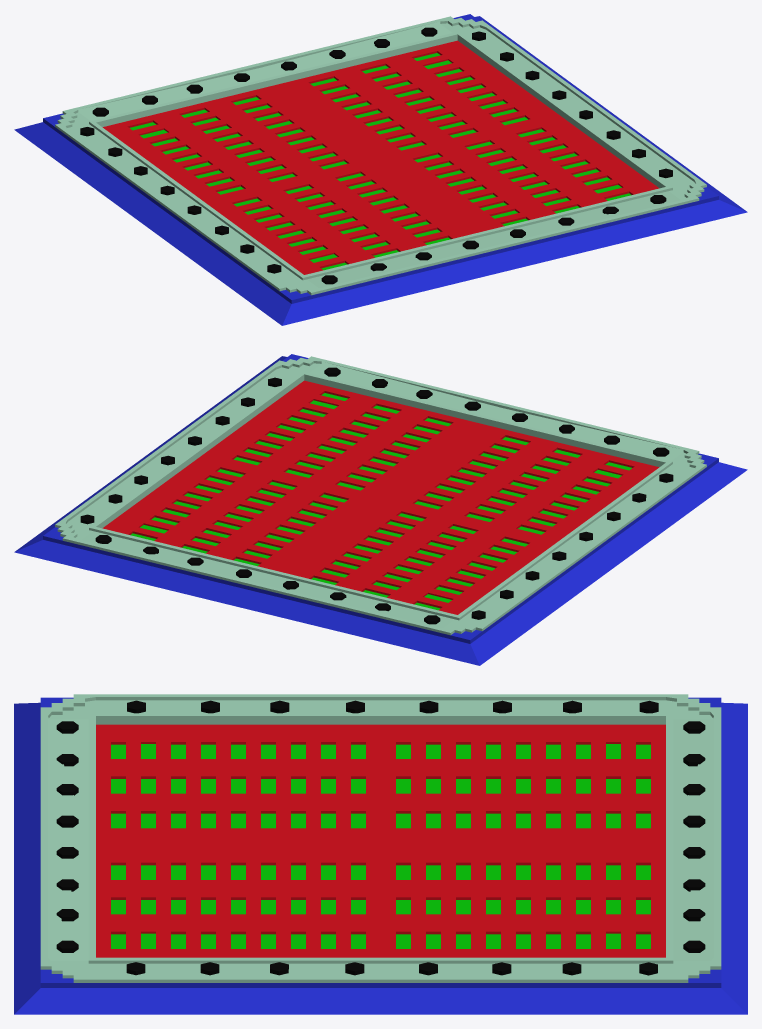
The model's file is plate.fbx.
3 renders of one model, top to bottom at view 1: azimuth 30°, elevation 25°; view 2: azimuth 150°, elevation 25°; view 3: azimuth 270°, elevation 25°, orthographic. The views are drawn at different scales.
Parts seen in each view (by area): view 1: Плоскость, 2, 1; view 2: Плоскость, 2, 1; view 3: Плоскость, 2, 1.
Part boxes in pixels (bbox=[...]): Плоскость: bbox=[14, 14, 747, 325]; 2: bbox=[92, 27, 666, 284]; 1: bbox=[80, 31, 672, 273]; Плоскость: bbox=[14, 354, 747, 665]; 2: bbox=[95, 367, 669, 624]; 1: bbox=[80, 377, 673, 619]; Плоскость: bbox=[14, 694, 747, 1014]; 2: bbox=[56, 721, 705, 952]; 1: bbox=[126, 700, 658, 975].
Size of the model in its own units: 103 by 3.59 by 103.
